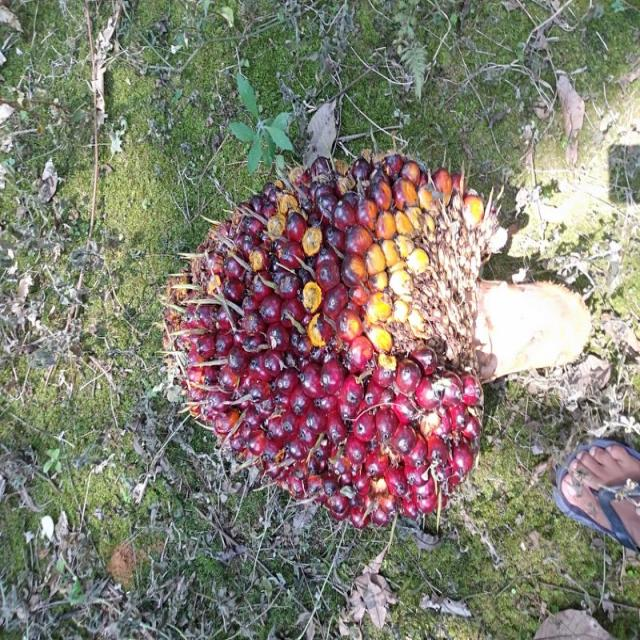fraksi 3: (172, 162, 508, 523)
